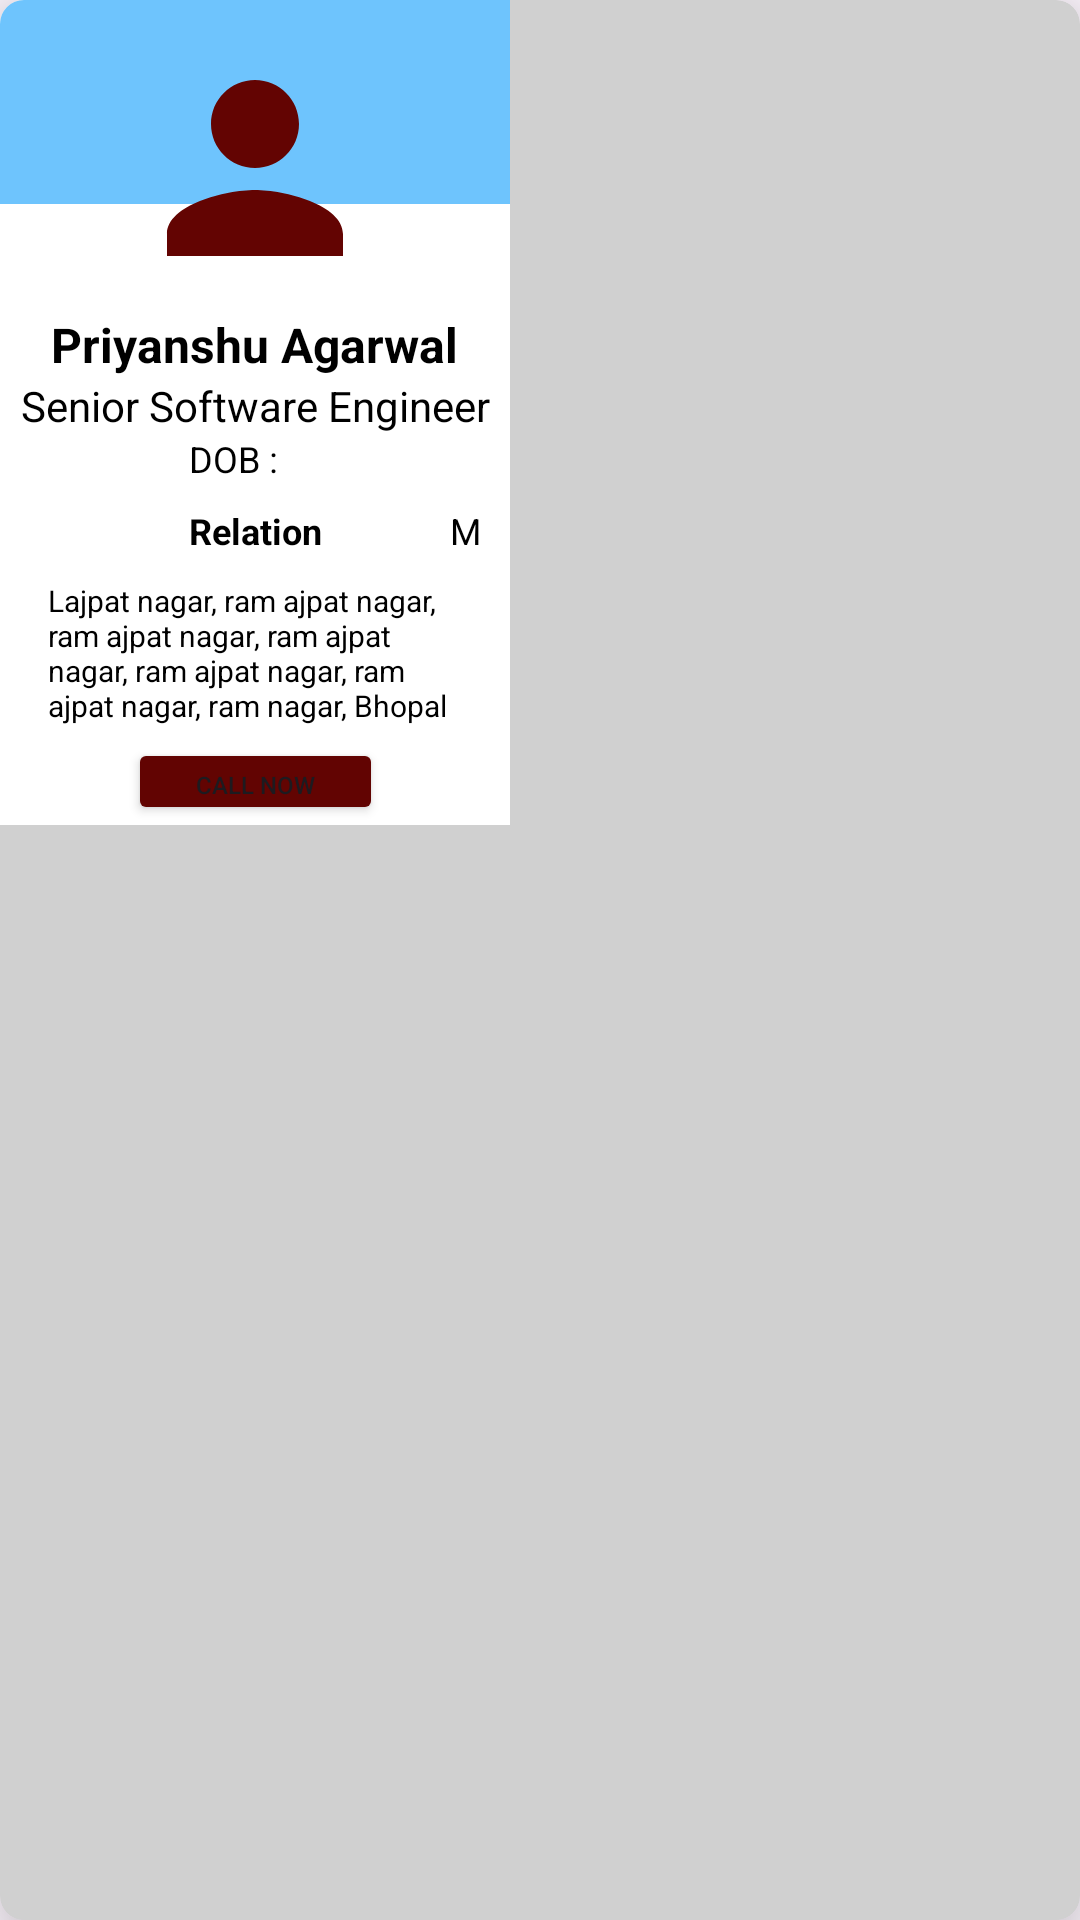

Named icons in this screenshot (1080 × 1920) and their centers, point (x, y):
person: point (255, 168)
